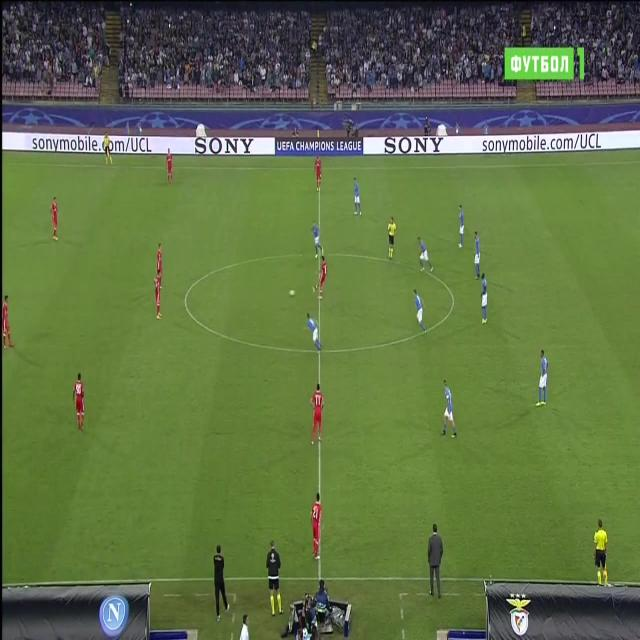Ball: (287, 286, 298, 301)
Player: (438, 376, 459, 443), (307, 493, 323, 563), (310, 381, 325, 448), (535, 347, 550, 411), (71, 372, 86, 434), (0, 293, 15, 351), (312, 253, 329, 304), (304, 309, 322, 354), (416, 233, 434, 276), (412, 284, 426, 337), (478, 270, 490, 328), (48, 194, 61, 246), (152, 268, 164, 322), (311, 221, 325, 261), (472, 229, 482, 280), (458, 200, 467, 250), (352, 176, 362, 219), (314, 154, 323, 199), (154, 238, 164, 268), (166, 149, 174, 185)
Referee: (591, 514, 611, 586), (385, 214, 398, 262), (103, 134, 112, 168)
